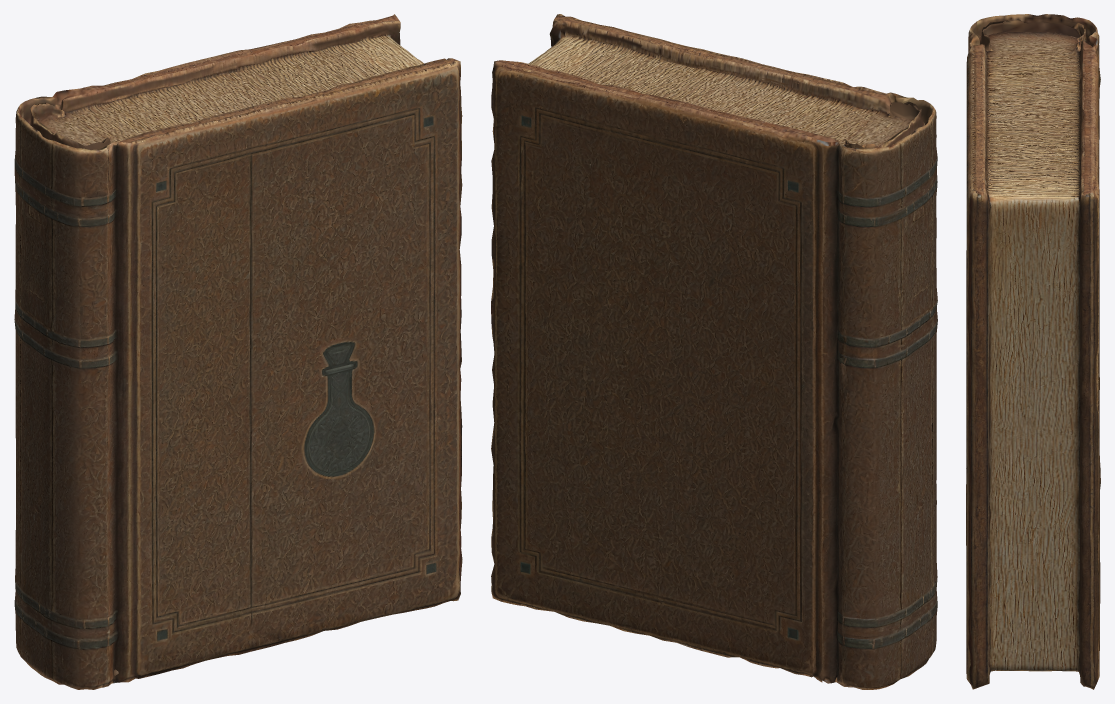
Rendered from Prop_RecipeBook.fbx.
3 views of the same model, side by side, from view 1: azimuth 30°, elevation 25°; view 2: azimuth 150°, elevation 25°; view 3: azimuth 270°, elevation 25° (orthographic). The views are drawn at different scales.
Visible parts, largest first — view 1: texture_mapping; view 2: texture_mapping; view 3: texture_mapping.
Boxes of the visible parts, box(x1,y1,x2,y2) form: texture_mapping: box(14, 14, 462, 689); texture_mapping: box(491, 14, 937, 689); texture_mapping: box(966, 14, 1100, 689).
Bounding box in the file's own units: 0.7671 × 0.2444 × 1.
Materials: 1 (1 with a texture image).
